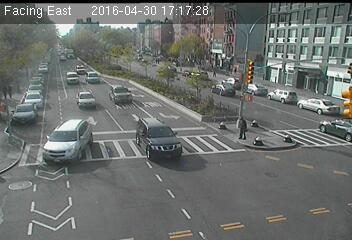neg: (241, 66, 257, 87), (320, 71, 335, 91), (186, 90, 200, 109), (115, 86, 128, 104), (144, 139, 156, 156)
pos: (234, 113, 254, 140), (209, 64, 218, 76)
